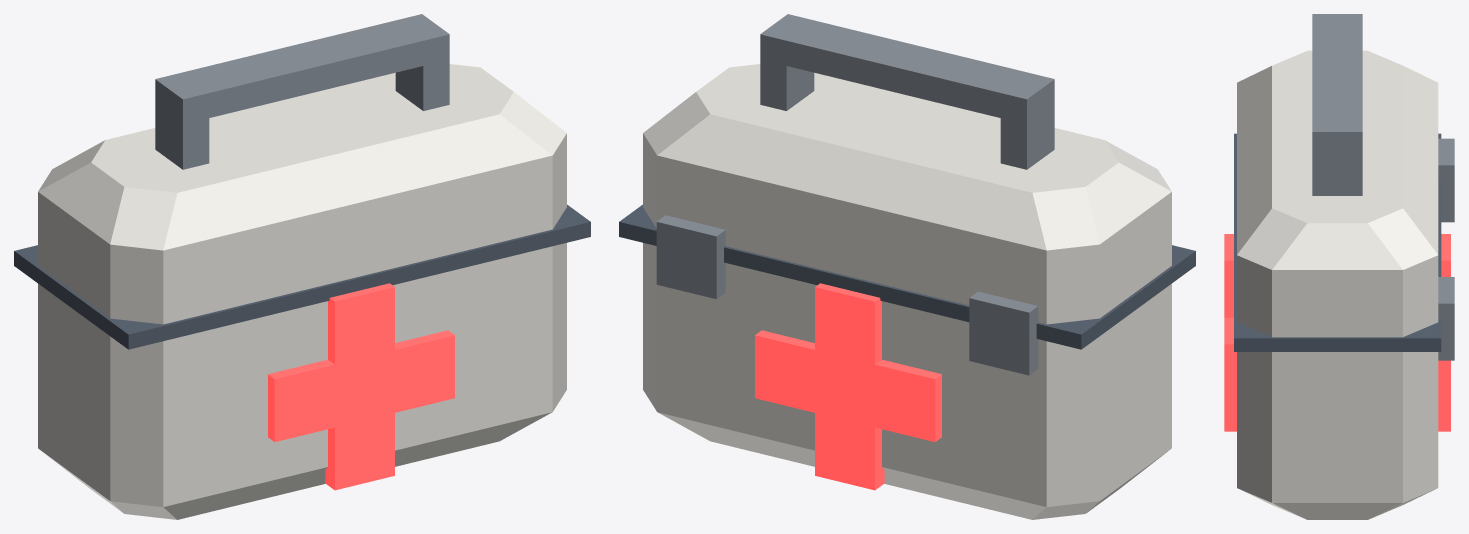
The model's file is pickup_health.glb.
3 renders of one model, left to right at view 1: azimuth 30°, elevation 25°; view 2: azimuth 150°, elevation 25°; view 3: azimuth 270°, elevation 25°, orthographic. The views are drawn at different scales.
Parts seen in each view (by area): view 1: Body; view 2: Body; view 3: Body.
Boxes of the visible parts, x1,y1,x2,y2 form: Body: (14,14,590,519); Body: (619,14,1195,519); Body: (1224,14,1454,519).
Size of the model in its own units: 0.3846 by 0.316 by 0.183.
